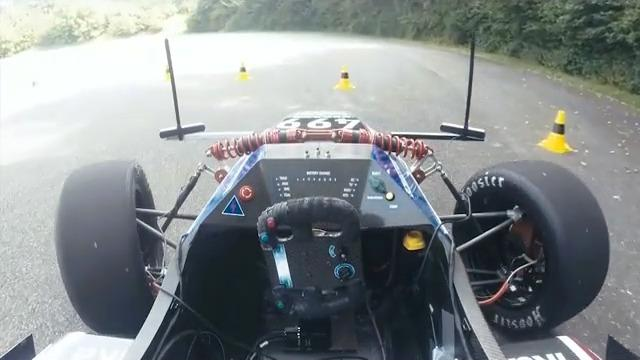yellow_cone: (537, 105, 582, 157), (330, 63, 354, 93), (235, 61, 254, 84)
